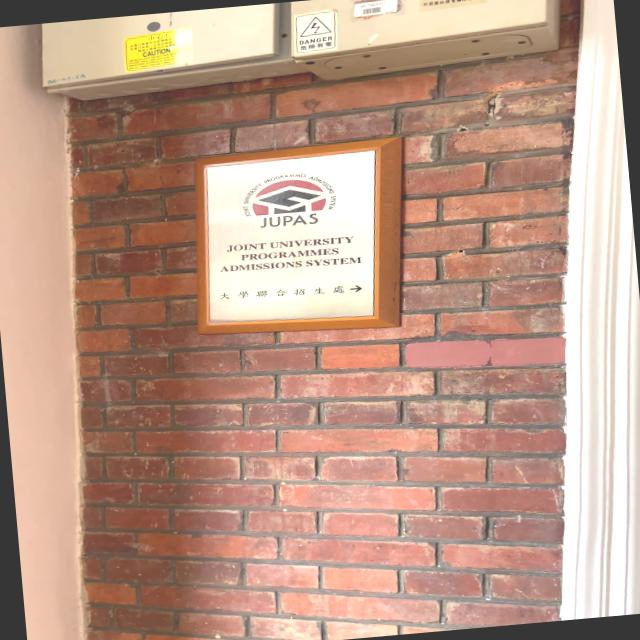jupasOffice: (183, 128, 422, 348)
